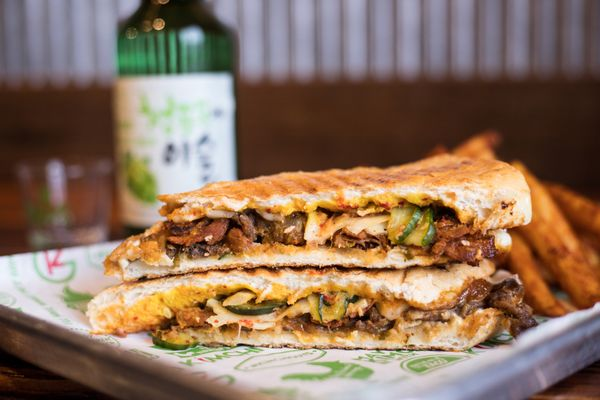pizza: (110, 4, 239, 236), (13, 152, 115, 249)
soup: (87, 131, 540, 354)
